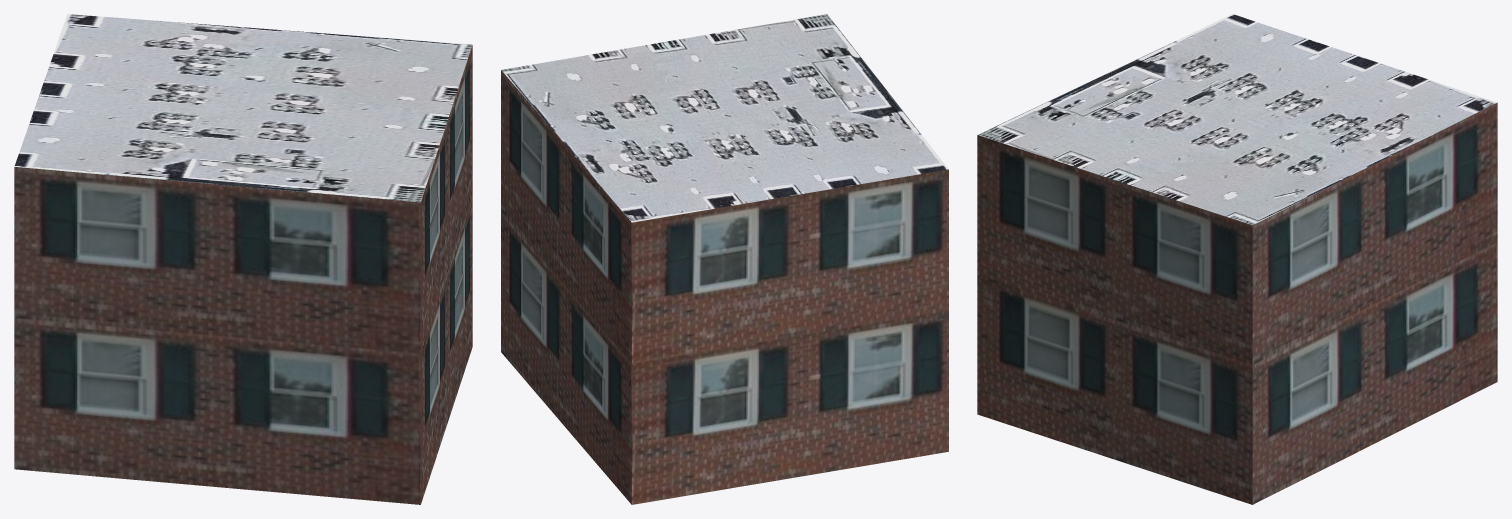
Rendered from ResTex__959.fbx.
3 renders of one model, left to right at view 1: azimuth 30°, elevation 25°; view 2: azimuth 150°, elevation 25°; view 3: azimuth 270°, elevation 25°, orthographic. The views are drawn at different scales.
Visible parts, largest first — view 1: CityEngineMaterial_14_m, CityEngineMaterial_8_m; view 2: CityEngineMaterial_14_m, CityEngineMaterial_8_m; view 3: CityEngineMaterial_14_m, CityEngineMaterial_8_m.
Part boxes in pixels (x1,y1,x2,y2): CityEngineMaterial_14_m: (14, 45, 472, 504); CityEngineMaterial_8_m: (14, 14, 472, 202); CityEngineMaterial_14_m: (501, 70, 948, 504); CityEngineMaterial_8_m: (501, 14, 948, 222); CityEngineMaterial_14_m: (977, 102, 1497, 504); CityEngineMaterial_8_m: (978, 14, 1496, 225).
Size of the model in its own units: 9.73 by 6 by 10.12.
Materials: 2 (2 with a texture image).
